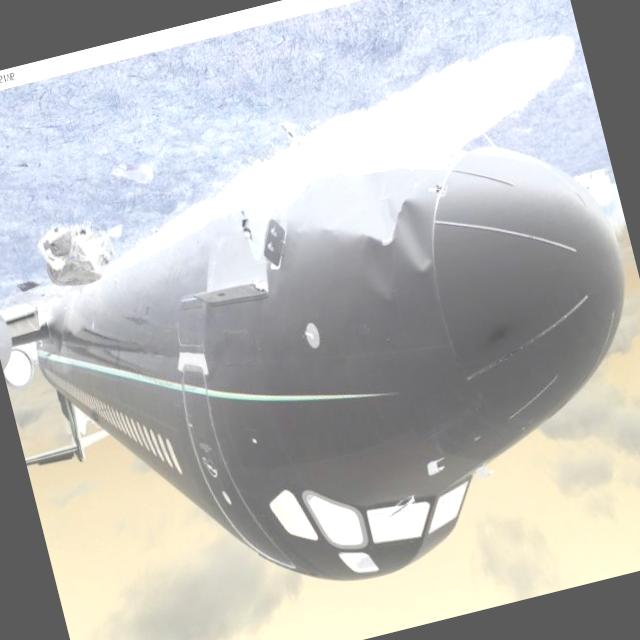dent: (282, 180, 398, 303), (389, 197, 442, 286)
